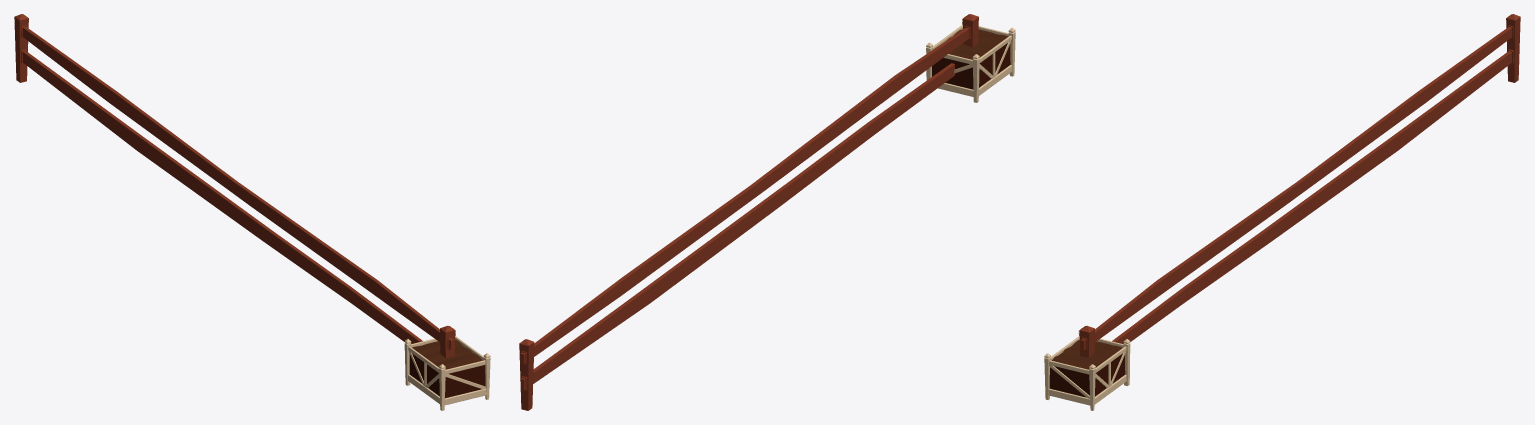
Rendered from Fence_GardenBox.fbx.
3 views of the same model, side by side, from view 1: azimuth 30°, elevation 25°; view 2: azimuth 150°, elevation 25°; view 3: azimuth 330°, elevation 25° (orthographic). The views are drawn at different scales.
Parts seen in each view (by area): view 1: Fence25, GardenBox00; view 2: Fence25, GardenBox00; view 3: Fence25, GardenBox00.
Boxes of the visible parts, left/top/right/bottom form: Fence25: left=14, top=14, right=455, bottom=358; GardenBox00: left=404, top=328, right=490, bottom=410; Fence25: left=519, top=14, right=978, bottom=410; GardenBox00: left=926, top=16, right=1015, bottom=102; Fence25: left=1079, top=14, right=1520, bottom=357; GardenBox00: left=1044, top=328, right=1130, bottom=410.
Bounding box in the file's own units: 165 × 214 × 2607.
